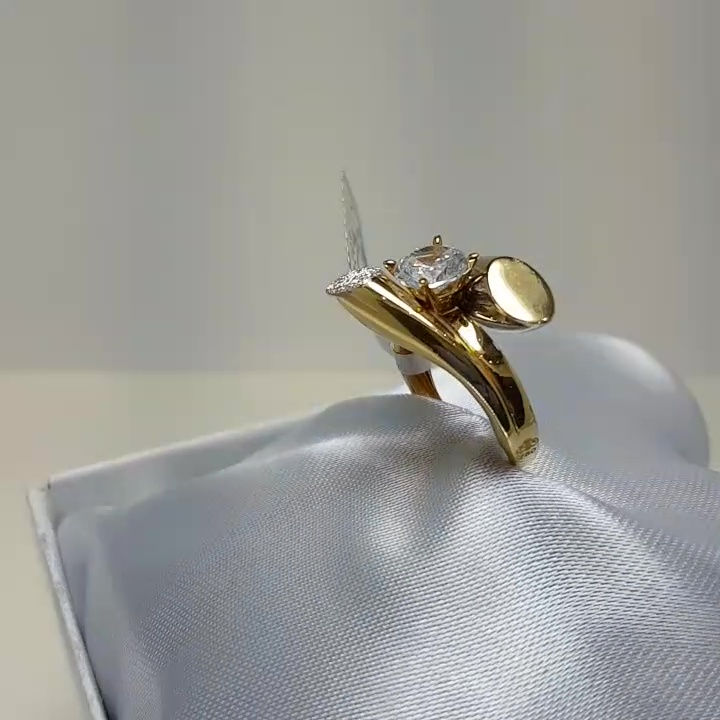Ring 7: (308, 209, 569, 473)
